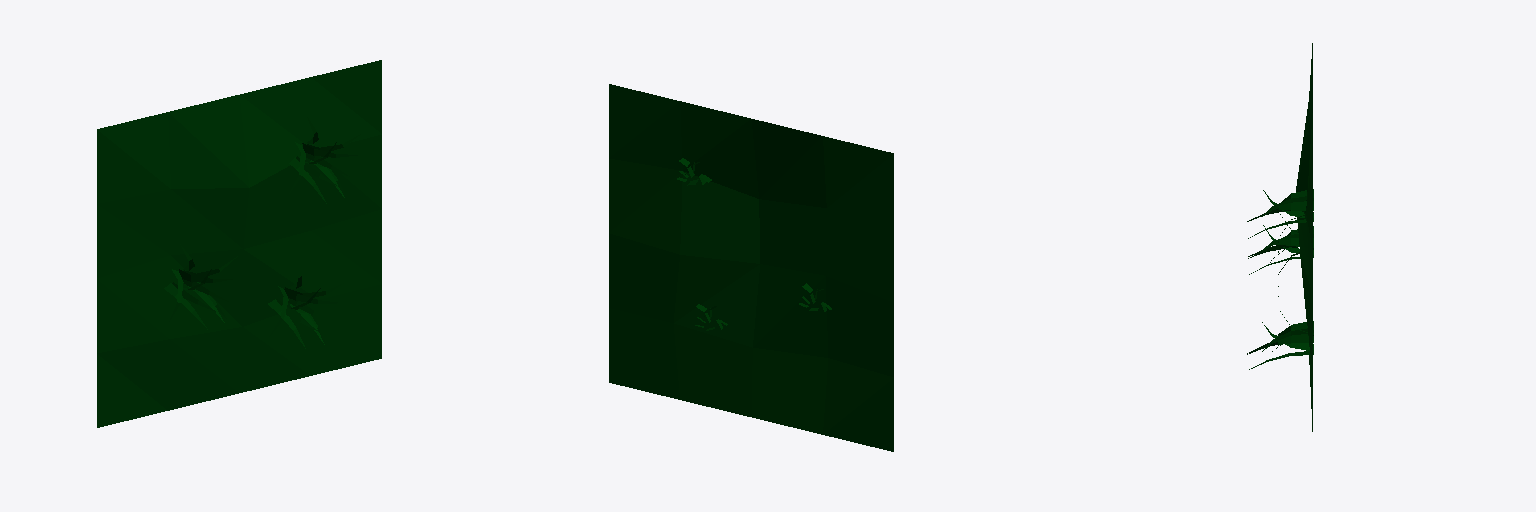
The model's file is GrassTile002.obj.
The picture shows the model from 3 angles: view 1: azimuth 30°, elevation 25°; view 2: azimuth 150°, elevation 25°; view 3: azimuth 270°, elevation 25°; orthographic projection.
Parts seen in each view (by area): view 1: Plane001; view 2: Plane001; view 3: Plane001.
Boxes of the visible parts, x1,y1,x2,y2 form: Plane001: [97, 60, 381, 427]; Plane001: [609, 84, 893, 451]; Plane001: [1296, 43, 1312, 431].
Bounding box in the file's own units: 32 × 32 × 6.54.